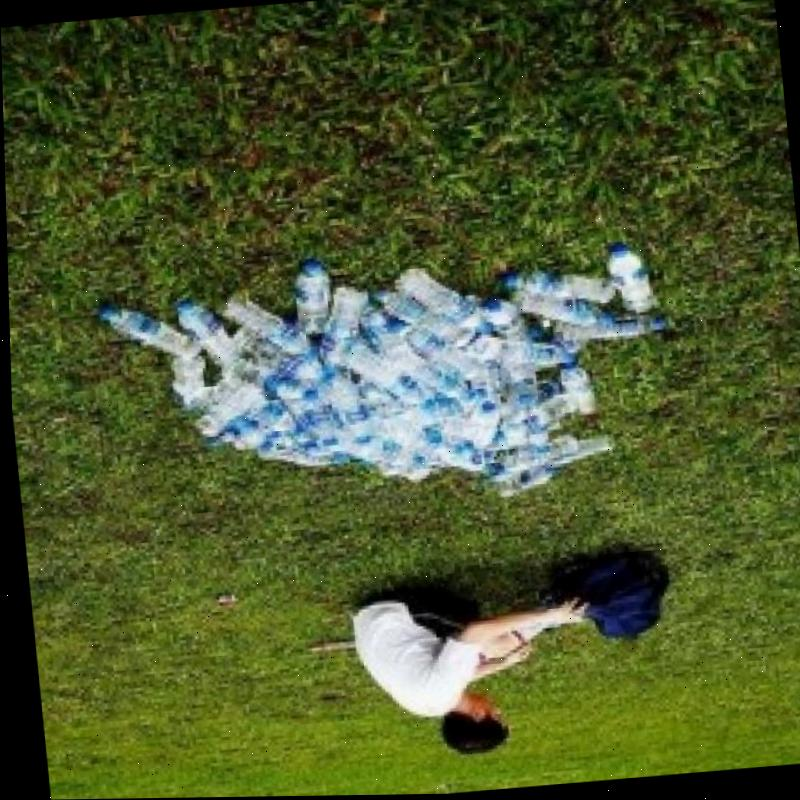botella: (367, 276, 472, 356), (394, 256, 485, 338), (219, 289, 313, 362), (214, 372, 300, 444), (507, 262, 621, 315), (508, 282, 610, 335), (170, 295, 237, 369), (343, 347, 420, 409), (313, 285, 370, 368), (601, 246, 662, 313), (207, 386, 267, 452), (353, 299, 418, 357), (558, 313, 664, 346), (287, 263, 332, 337), (327, 371, 371, 435), (164, 351, 207, 414), (480, 297, 532, 349), (496, 336, 571, 371), (555, 356, 598, 414), (419, 363, 473, 407), (539, 438, 614, 469), (253, 367, 315, 403), (498, 439, 580, 465), (408, 424, 450, 466), (273, 348, 324, 382), (303, 406, 336, 456), (455, 449, 487, 480), (296, 425, 315, 461)
